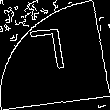L_S: (34, 27, 76, 83)
